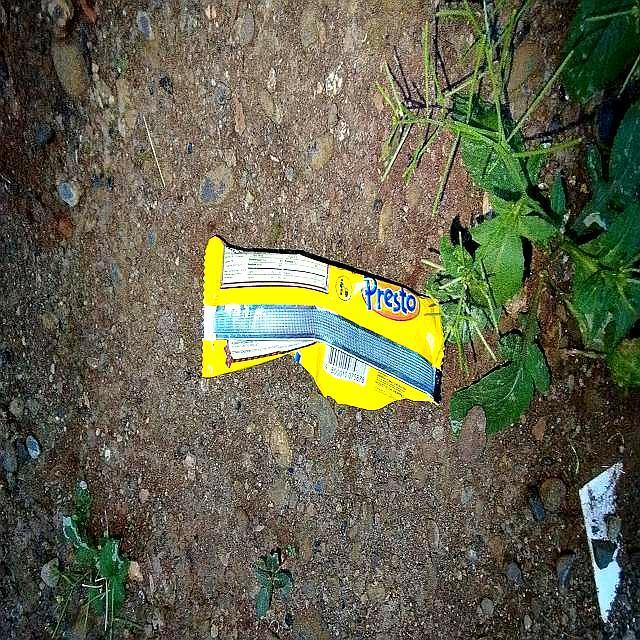Non-biodegradable: (200, 234, 447, 413)
